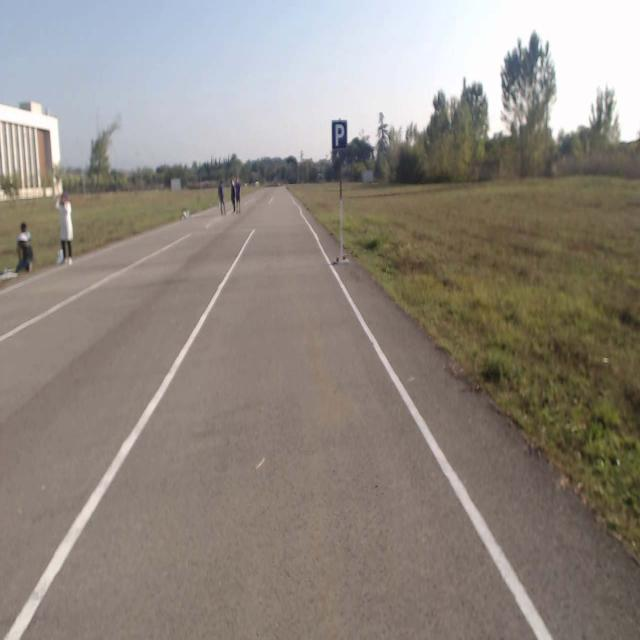park: (332, 120, 346, 151)
